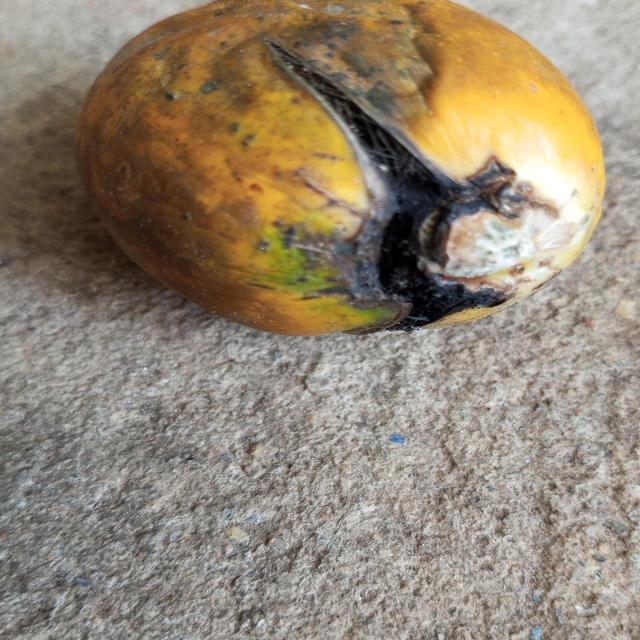damaged: (74, 0, 608, 339)
